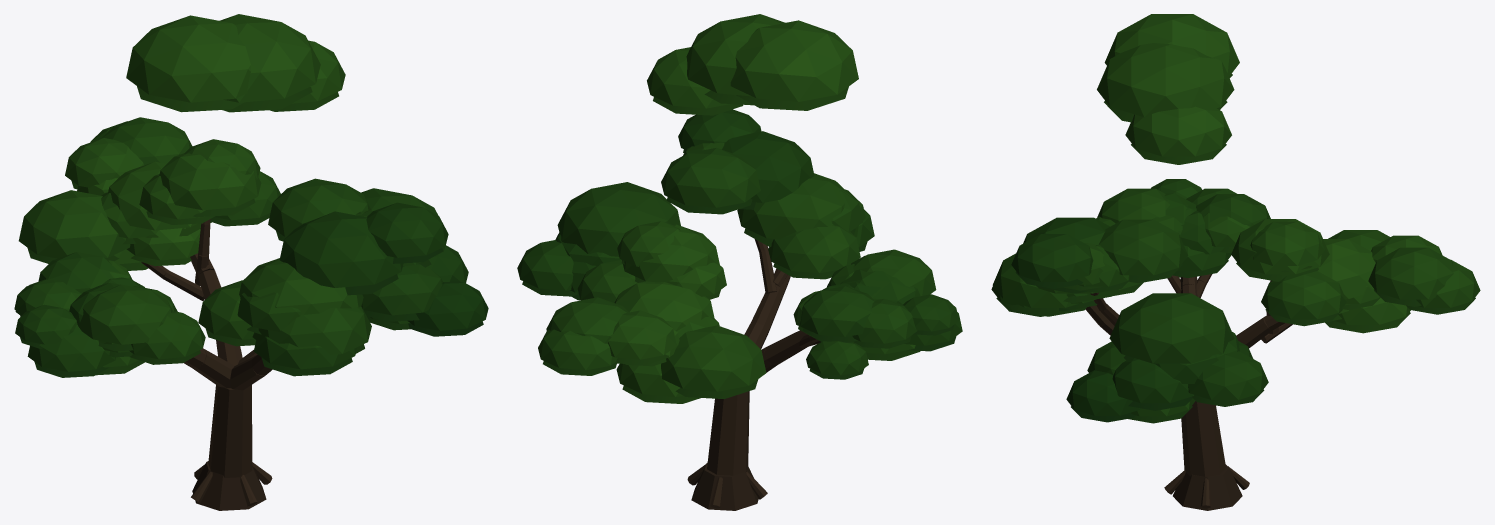
Rendered from tree_oak_3.glb.
The picture shows the model from 3 angles, left to right: view 1: azimuth 30°, elevation 25°; view 2: azimuth 150°, elevation 25°; view 3: azimuth 270°, elevation 25°; orthographic projection. The views are drawn at different scales.
Visible parts, largest first — view 1: leaf, wood; view 2: leaf, wood; view 3: leaf, wood.
Part boxes in pixels (box(x1,y1,x2,y2)): leaf: box(14, 14, 488, 377); wood: box(141, 219, 272, 510); leaf: box(517, 14, 962, 403); wood: box(687, 239, 820, 510); leaf: box(991, 14, 1480, 423); wood: box(1085, 274, 1292, 510).
Bounding box in the file's own units: 10.39 × 11.41 × 11.14.
